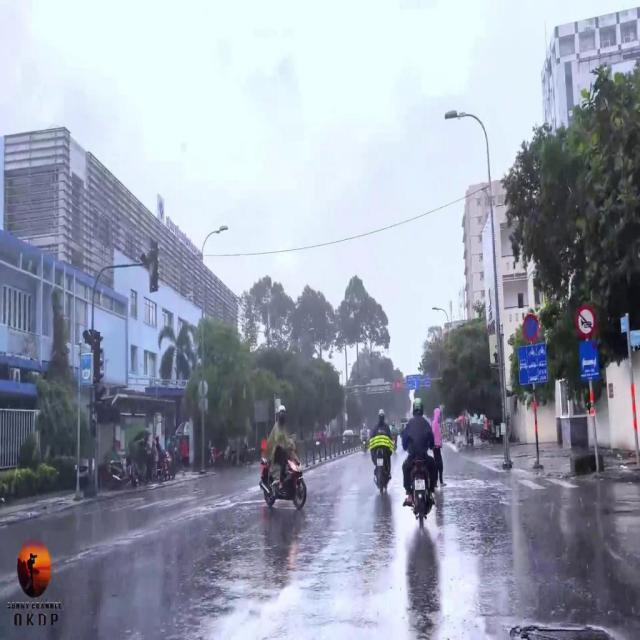128-cam-su-dung-coi: (575, 303, 597, 342)
131a-cam-do-xe: (520, 314, 540, 342)
